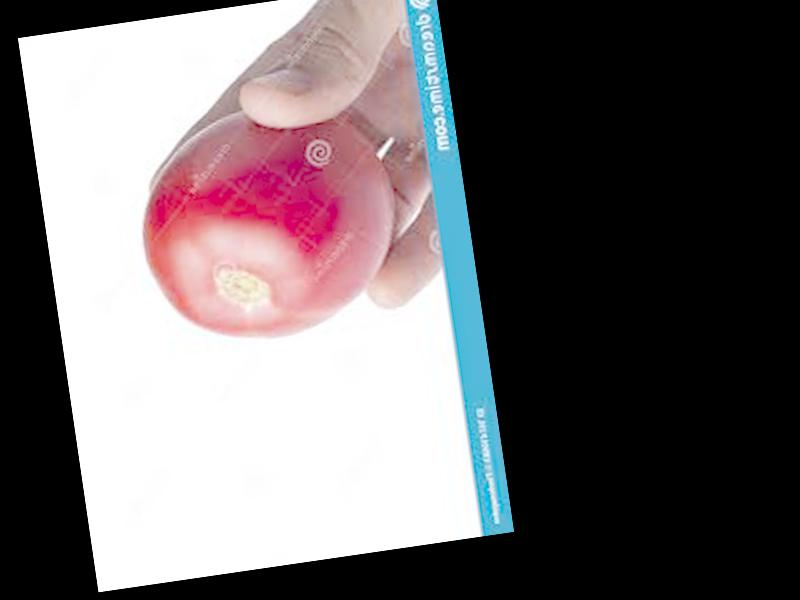Tomato: (127, 90, 409, 353)
